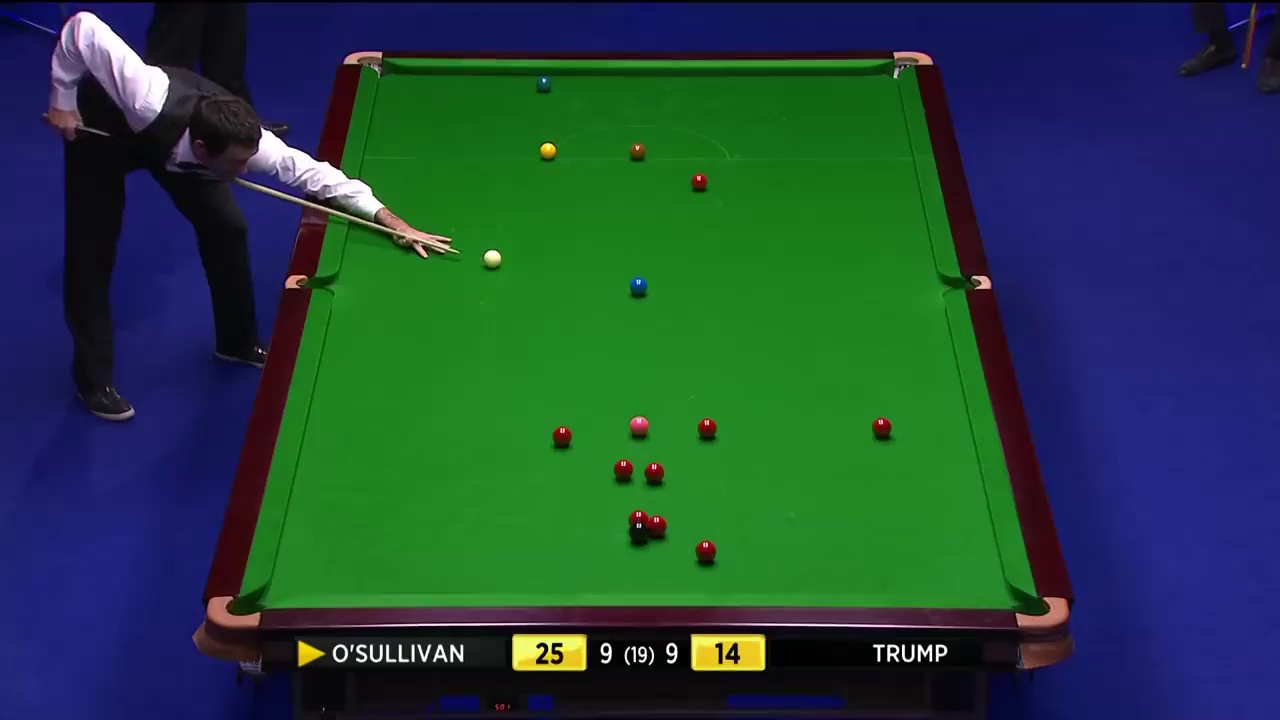ball: (629, 414, 652, 436), (627, 520, 648, 543), (694, 541, 716, 562), (536, 142, 559, 162), (644, 462, 665, 483), (551, 426, 572, 446), (872, 417, 892, 438), (696, 419, 716, 439), (481, 250, 500, 269), (613, 461, 633, 479), (630, 277, 648, 296), (690, 173, 708, 190), (628, 142, 645, 158), (537, 75, 551, 91)
